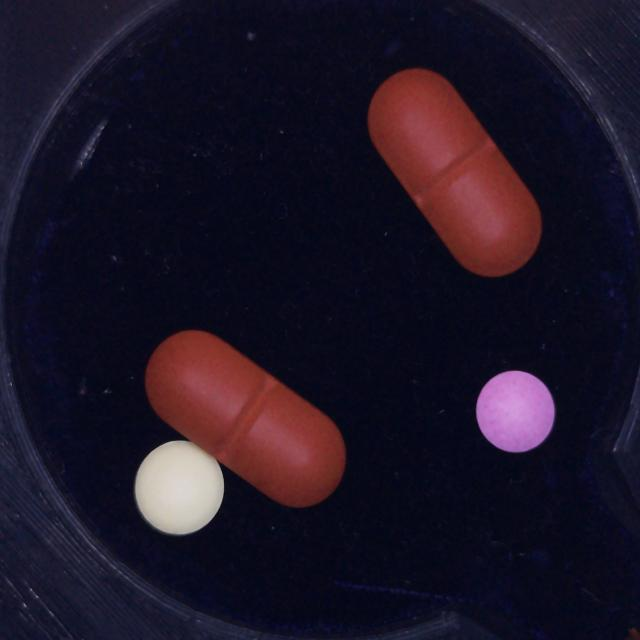Pill: (368, 68, 542, 277), (146, 330, 346, 507), (134, 441, 224, 535), (476, 371, 555, 453)
